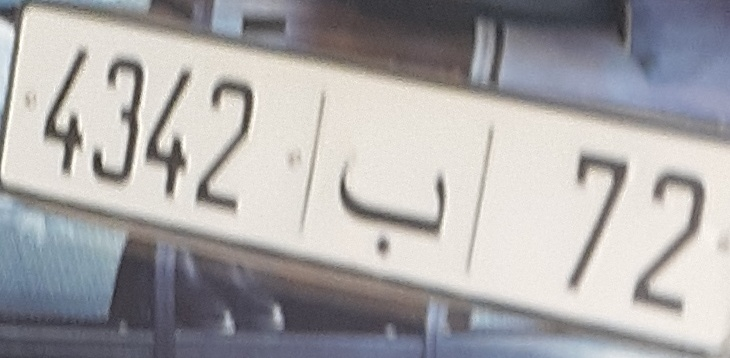2: (634, 167, 708, 316), (195, 75, 260, 215)
3: (93, 55, 147, 189)
4: (40, 44, 90, 179), (145, 64, 192, 202)
7: (560, 149, 630, 290)
b: (336, 148, 452, 258)
